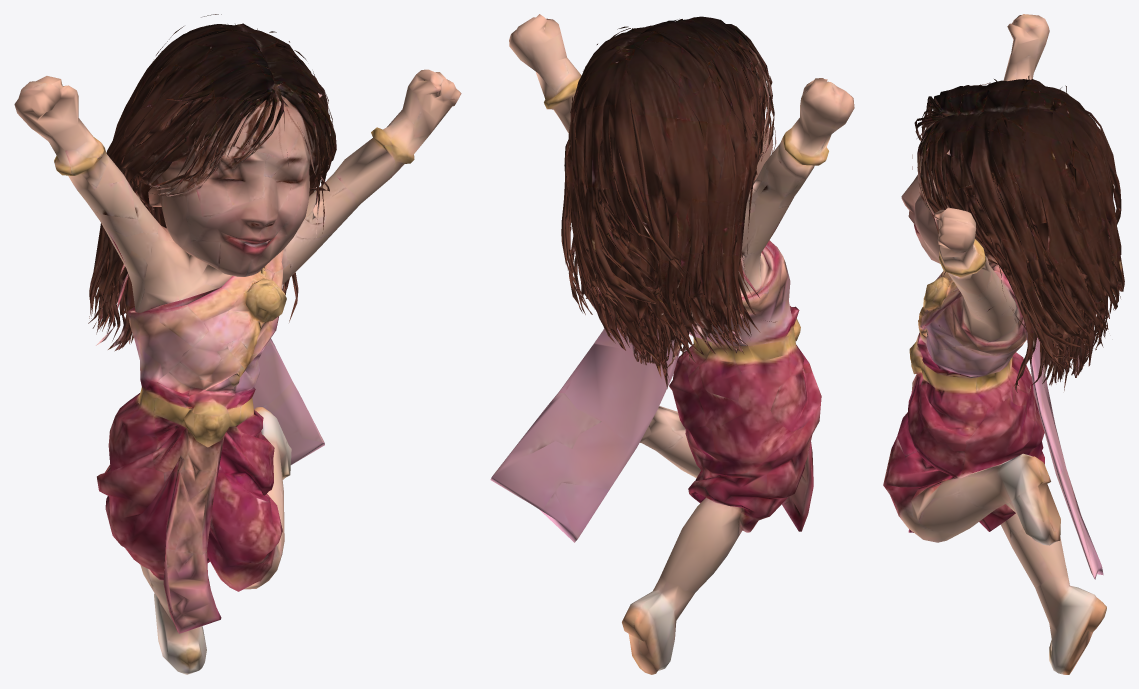
The model's file is giant-celebrate.glb.
3 renders of one model, left to right at view 1: azimuth 30°, elevation 25°; view 2: azimuth 150°, elevation 25°; view 3: azimuth 270°, elevation 25°, orthographic. The views are drawn at different scales.
Bounding box in the file's own units: 1.2 × 1.89 × 0.697.
Materials: 1 (1 with a texture image).
